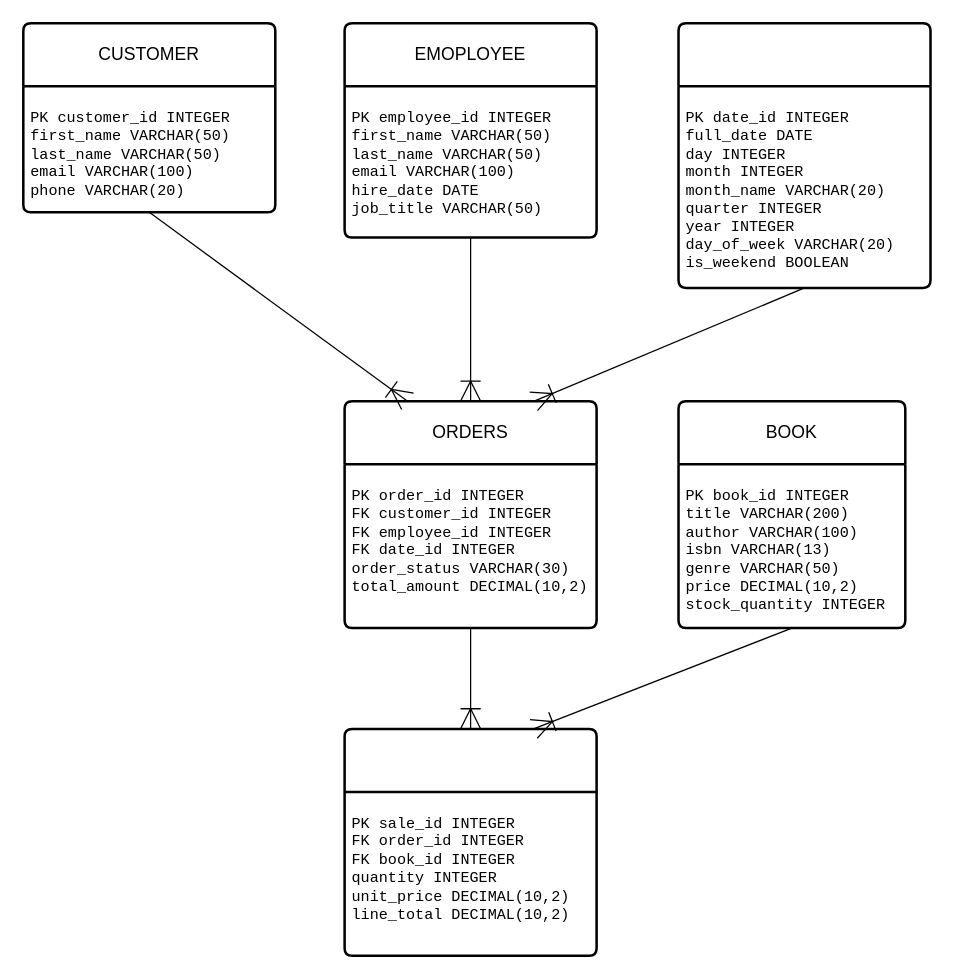
Some shapes in this 953 by 978 pixel diagram are drawn without their labels. Here are the shapes that lost their labels. From the top down, the box of each, then its label:
(677, 21, 931, 289): DATE DIM
(343, 727, 597, 956): SALES
